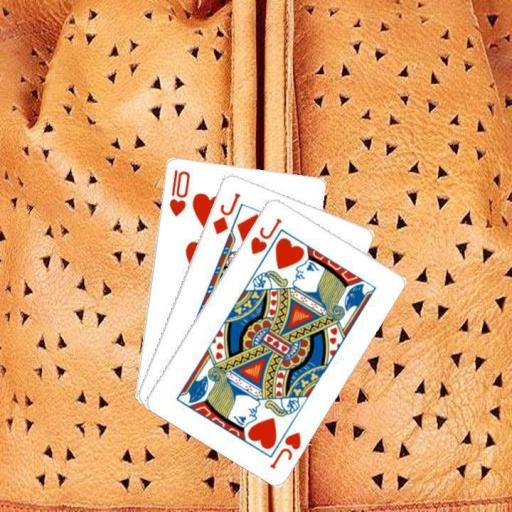card-corner: (246, 214, 284, 256), (209, 190, 242, 236), (267, 428, 303, 470), (166, 166, 191, 218)
